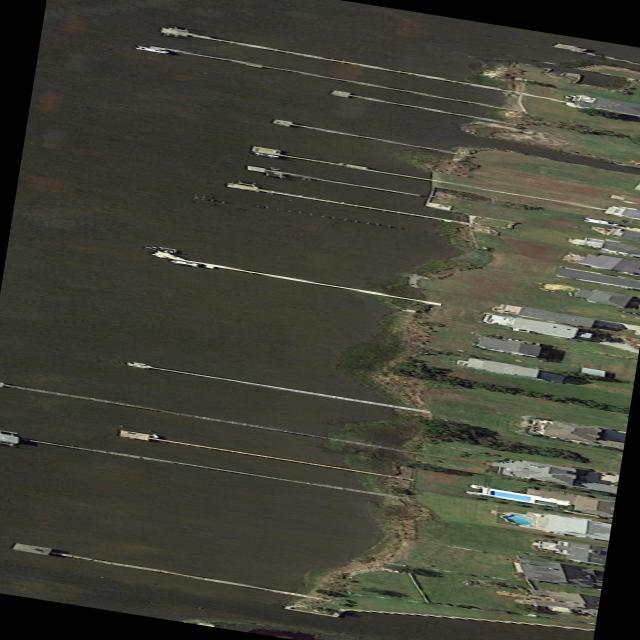ship: (582, 217, 619, 226), (135, 45, 169, 53), (250, 151, 280, 158), (169, 259, 197, 265)
